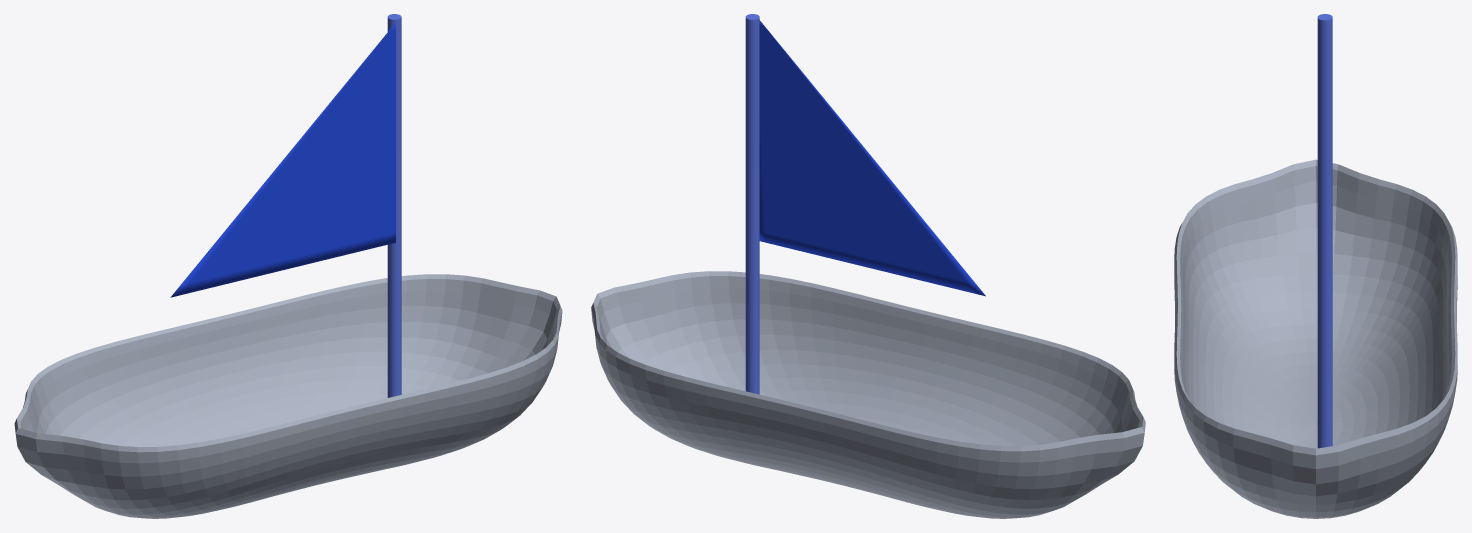
Rendered from boat.fbx.
3 renders of one model, left to right at view 1: azimuth 30°, elevation 25°; view 2: azimuth 150°, elevation 25°; view 3: azimuth 270°, elevation 25°, orthographic. The views are drawn at different scales.
Visible parts, largest first — view 1: Boat; view 2: Boat; view 3: Boat.
Boxes of the visible parts, x1,y1,x2,y2 form: Boat: (14,14,562,518); Boat: (591,14,1145,518); Boat: (1174,14,1457,518).
Size of the model in its own units: 310 by 235 by 127.
